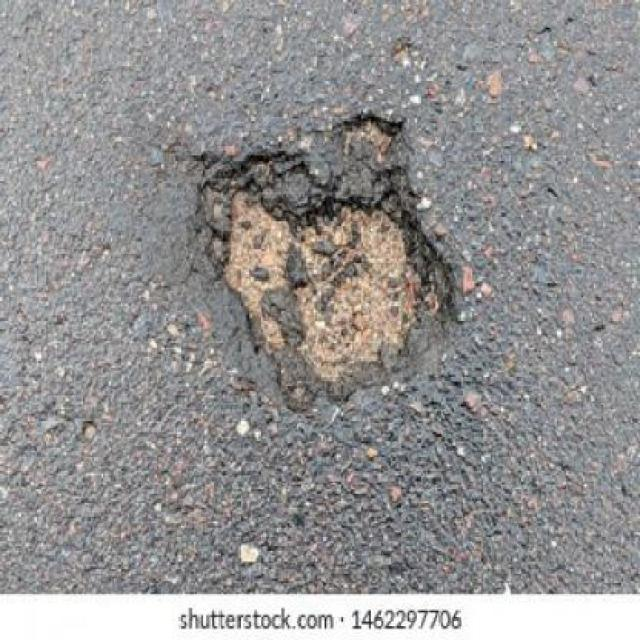Buraco: (184, 107, 464, 422)
